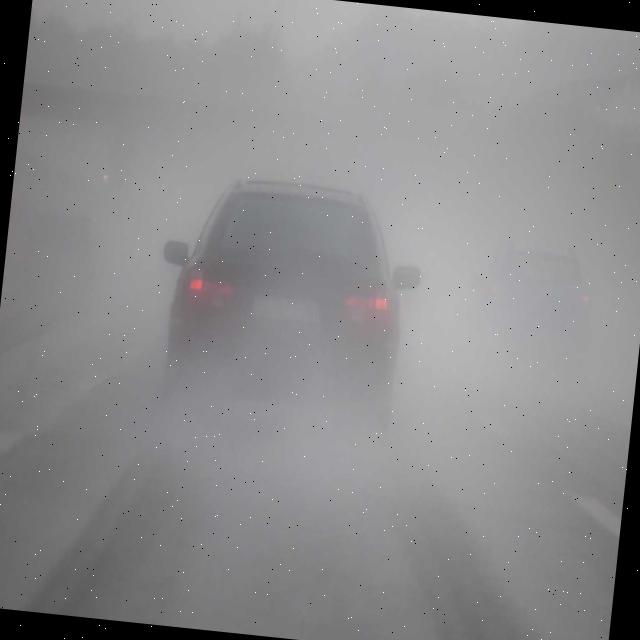car: (141, 167, 428, 490), (459, 238, 595, 386)
